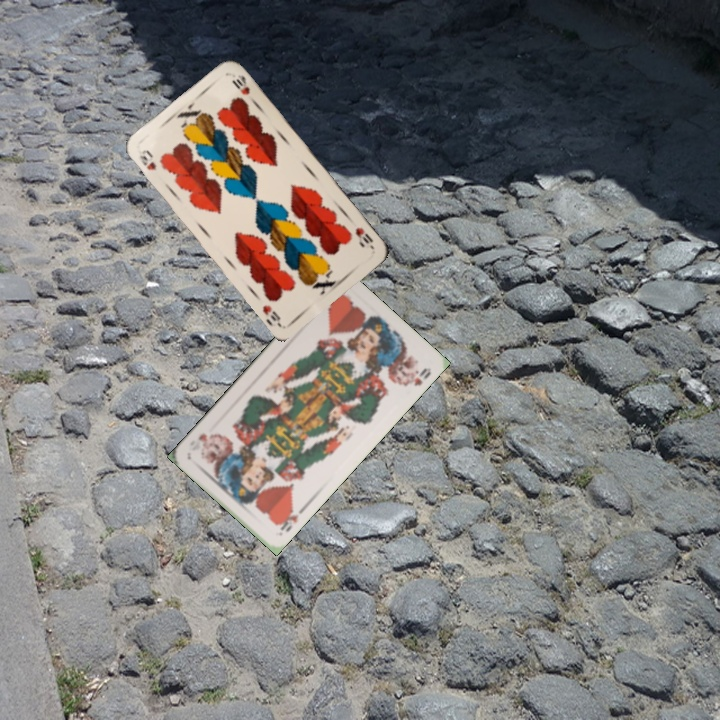H10: (134, 145, 159, 173), (351, 223, 376, 246)
HO: (273, 503, 301, 535)
